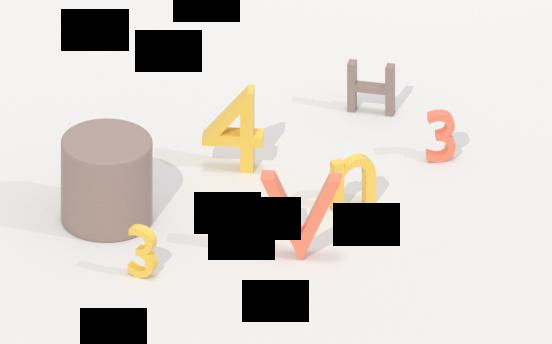3: (123, 221, 164, 281), (423, 107, 461, 164)
4: (196, 86, 272, 173)
H-hoa: (344, 57, 401, 119)
n: (320, 152, 381, 212)
tru: (58, 115, 156, 243)
v: (246, 169, 348, 263)
